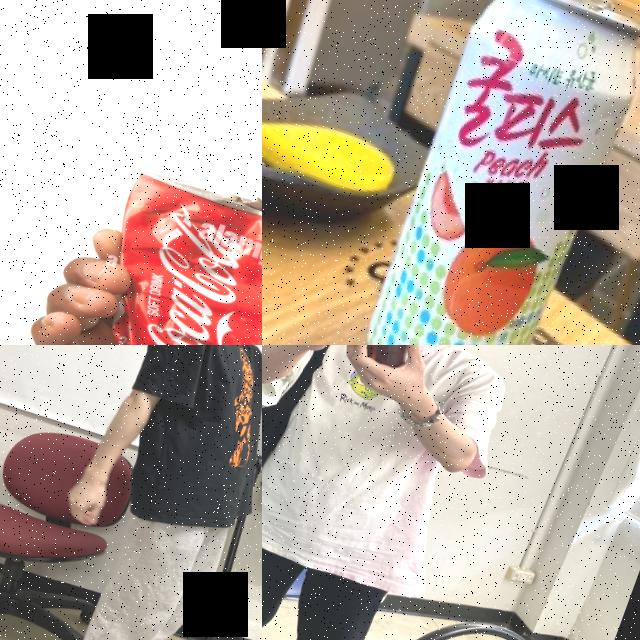can: (339, 0, 640, 345)
cup: (332, 345, 430, 373)
